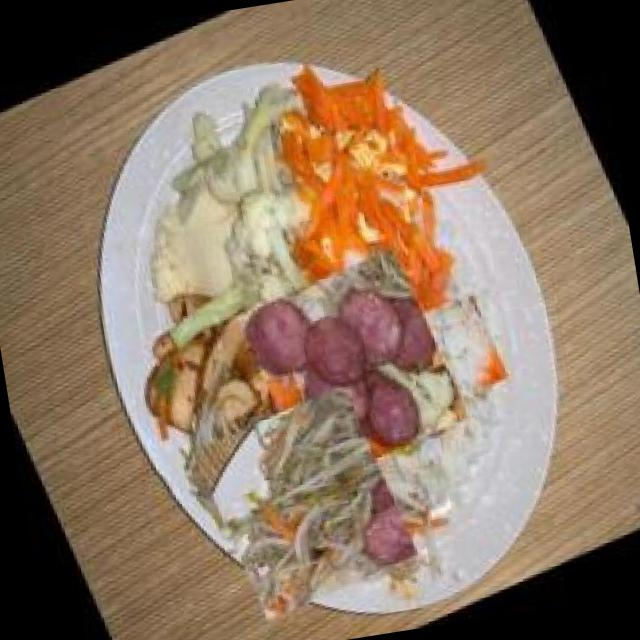carrot_eggs: (232, 21, 494, 372)
chinese_sausage: (229, 240, 475, 496)
mung_bean_sprouts: (182, 379, 426, 625)
rice: (420, 287, 510, 400)
